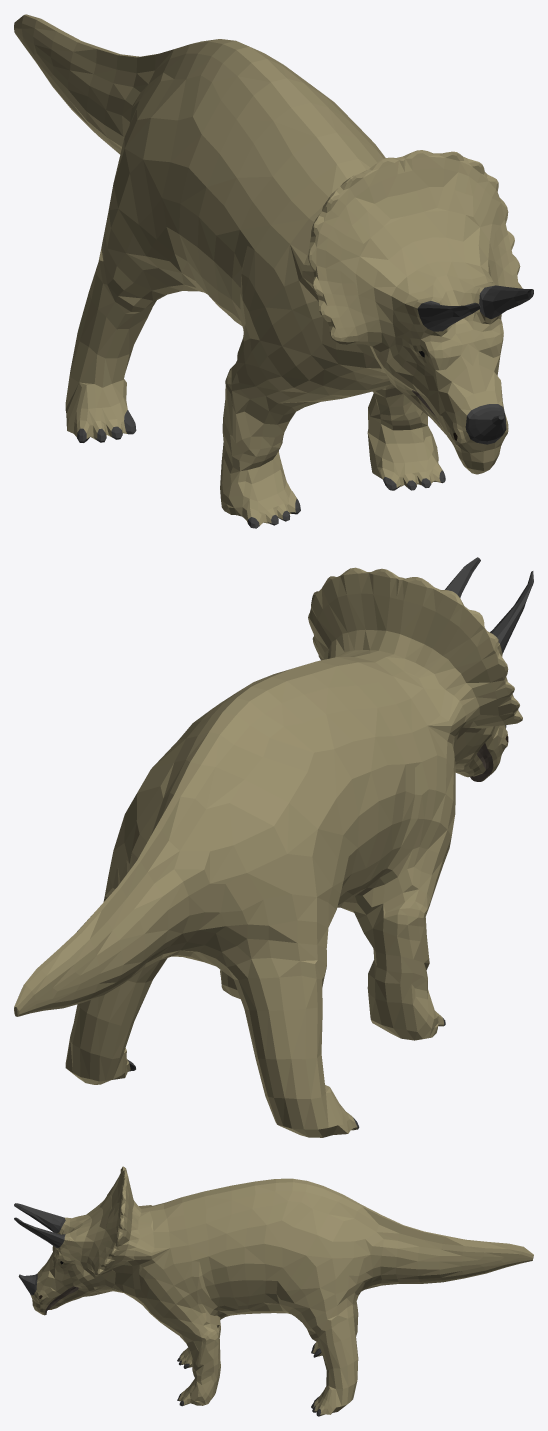
The model's file is triceratops.obj.
The picture shows the model from 3 angles, top to bottom: view 1: azimuth 30°, elevation 25°; view 2: azimuth 150°, elevation 25°; view 3: azimuth 270°, elevation 25°; orthographic projection. The views are drawn at different scales.
Bounding box in the file's own units: 1.79 × 2.37 × 5.4.
